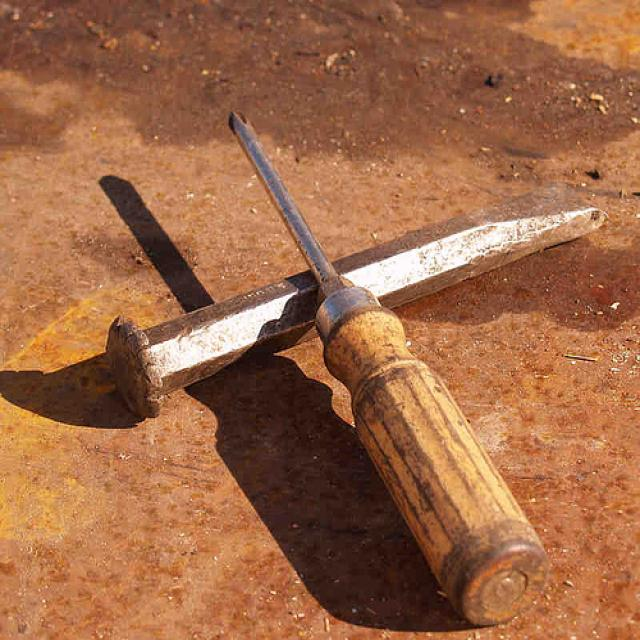screw_driver: (228, 118, 547, 629)
